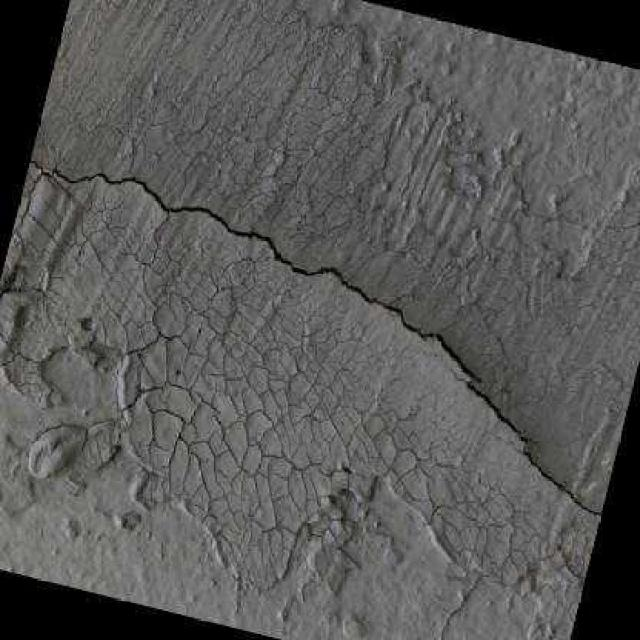D00: (30, 159, 602, 517)
